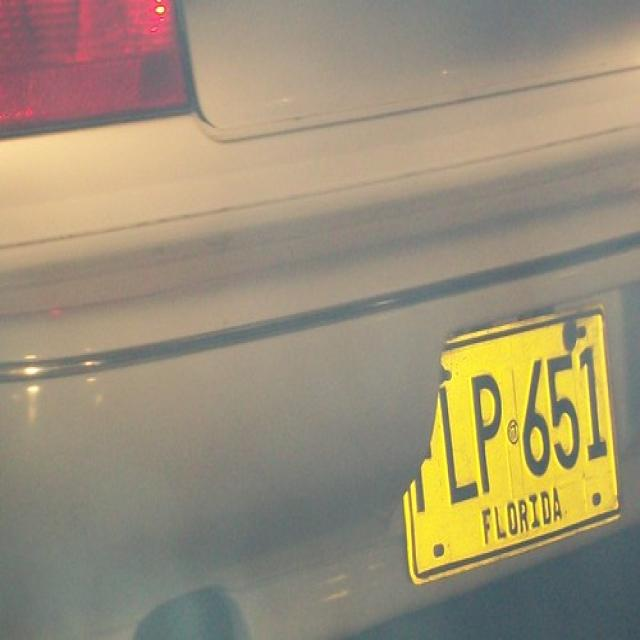placas: (405, 329, 612, 529)
